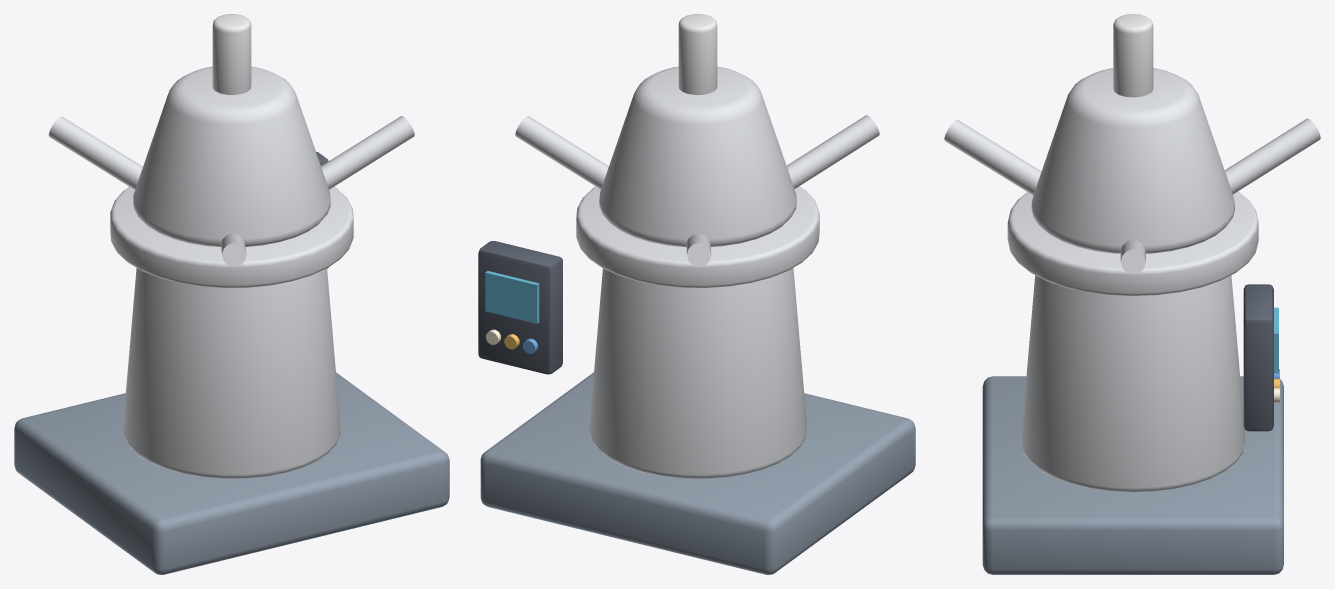
File: Wirowka.fbx
3 renders of one model, left to right at view 1: azimuth 30°, elevation 25°; view 2: azimuth 150°, elevation 25°; view 3: azimuth 270°, elevation 25°, orthographic. The views are drawn at different scales.
Parts seen in each view (by area): view 1: Maszyna_Wirowka_Korpus, Maszyna_Wirowka_Beben_Obrot; view 2: Maszyna_Wirowka_Korpus, Maszyna_Wirowka_Beben_Obrot; view 3: Maszyna_Wirowka_Korpus, Maszyna_Wirowka_Beben_Obrot.
Boxes of the visible parts, bbox=[...] form: Maszyna_Wirowka_Korpus: bbox=[14, 116, 449, 574]; Maszyna_Wirowka_Beben_Obrot: bbox=[133, 14, 330, 246]; Maszyna_Wirowka_Korpus: bbox=[478, 115, 915, 574]; Maszyna_Wirowka_Beben_Obrot: bbox=[599, 14, 796, 247]; Maszyna_Wirowka_Korpus: bbox=[944, 118, 1320, 574]; Maszyna_Wirowka_Beben_Obrot: bbox=[1031, 14, 1234, 253].
Bounding box in the file's own units: 1.55 × 2.29 × 1.5.
